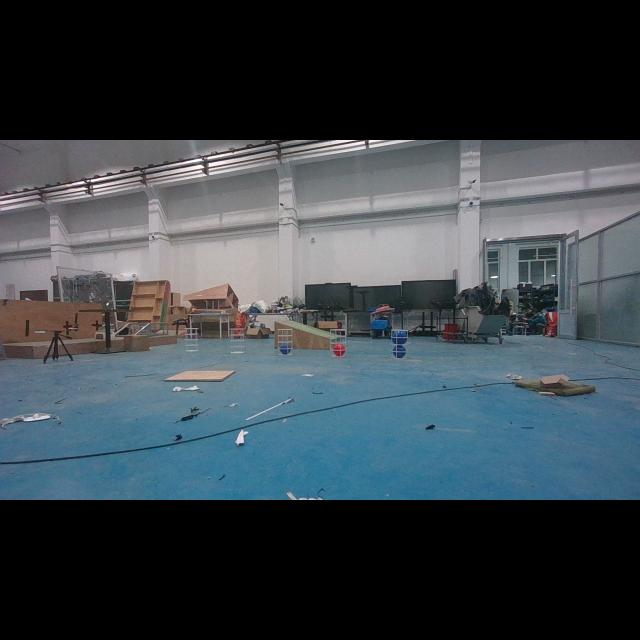B: (390, 332, 408, 344), (392, 346, 406, 358), (279, 344, 293, 354)
R: (334, 344, 346, 356)
S: (388, 328, 410, 362), (328, 328, 349, 360), (228, 326, 248, 356), (276, 327, 296, 357), (183, 326, 200, 354)
